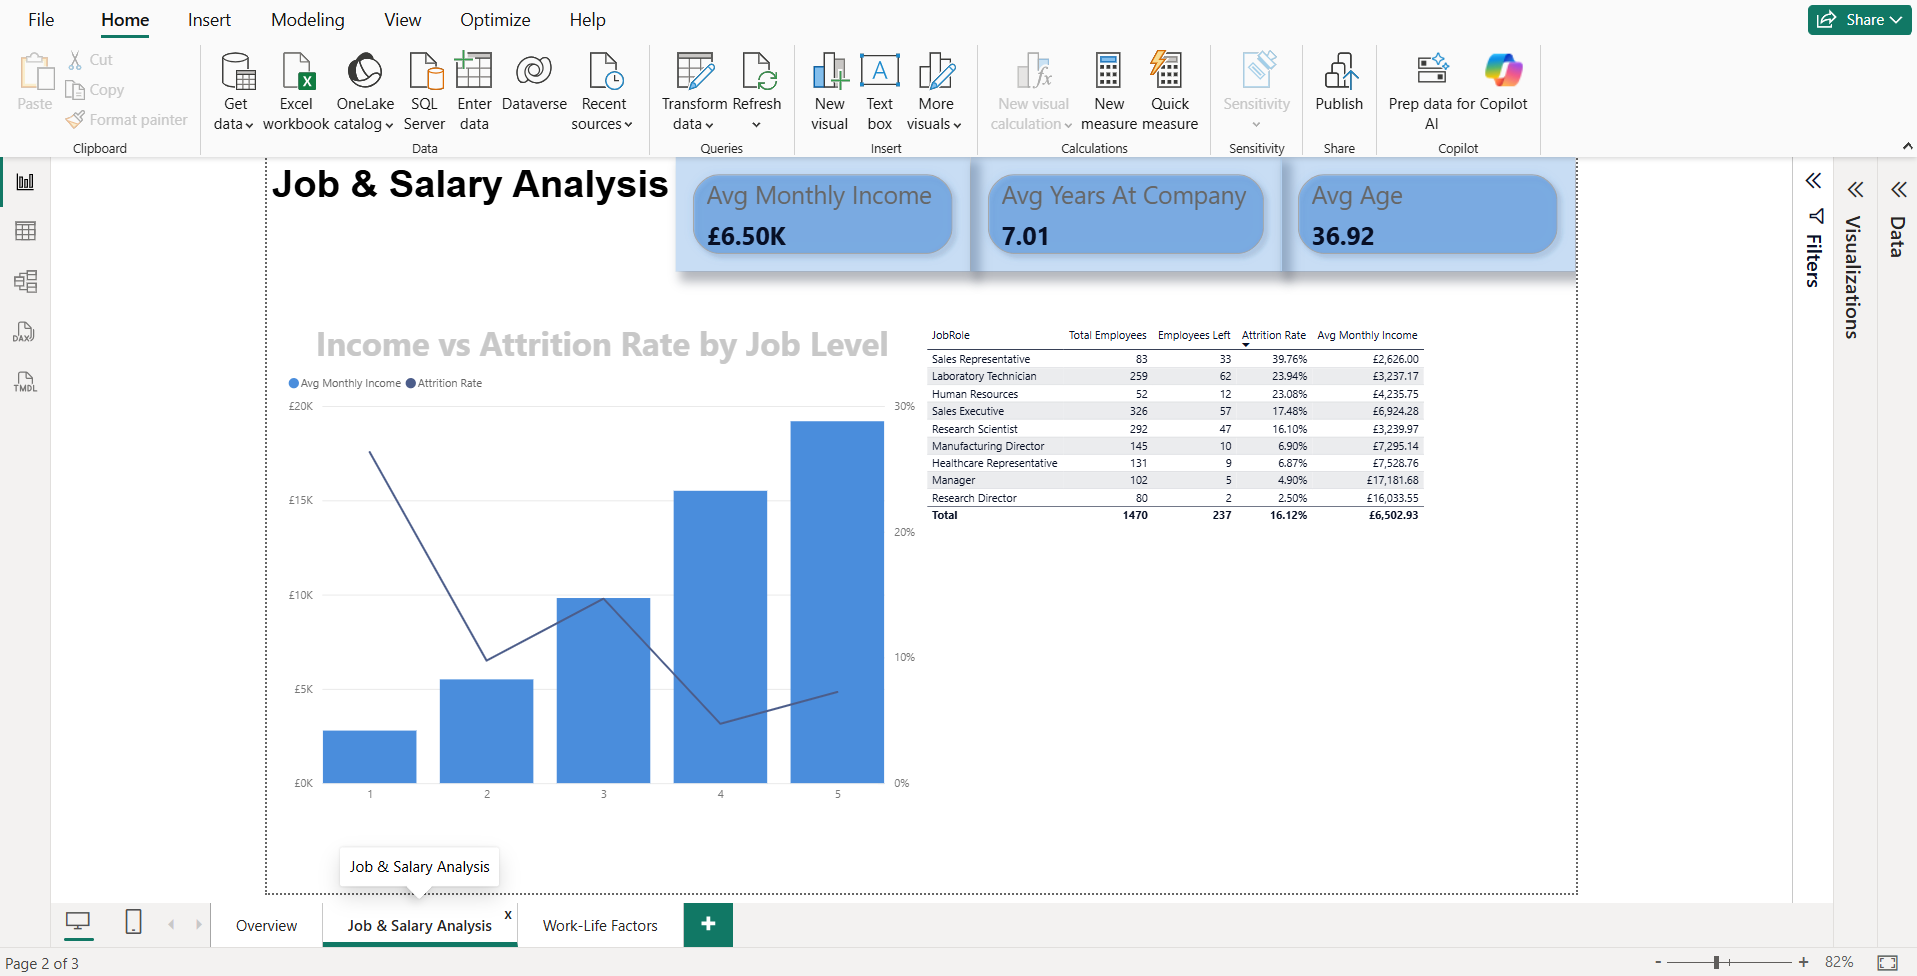

What the dashboard file says about the page in this screenshot:
{"tool":"powerbi","page":{"name":"Job & Salary Analysis","canvas":[1280,720],"ordinal":1},"visuals":[{"type":"cardVisual","fields":{"Data":["_Measures.Avg Monthly Income"]},"box":[400,0,288,112],"z":0},{"type":"cardVisual","fields":{"Data":["_Measures.Avg Years At Company"]},"box":[688,0,304,112],"z":1000},{"type":"cardVisual","fields":{"Data":["_Measures.Avg Age"]},"box":[992,0,288,112],"z":2000},{"type":"lineClusteredColumnComboChart","title":"Income vs Attrition Rate by Job Level","fields":{"Category":["employees.JobLevel"],"Y2":["_Measures.Attrition Rate"],"Y":["_Measures.Avg Monthly Income"]},"box":[16,160,624,480],"z":3000},{"type":"tableEx","fields":{"Values":["employees.JobRole","_Measures.Total Employees","_Measures.Employees Left","_Measures.Attrition Rate","_Measures.Avg Monthly Income"]},"box":[640,160,640,480],"z":4000},{"type":"textbox","box":[0,0,400,80],"z":5000}]}

Visuals, with their boxes on the page's 1280x720 design canvas (x1, y1, x2, y2). These are canvas units, not pixel positions in the 1917x976 screenshot, which may show the page scaled, cropped or inside an application window:
cardVisual - _Measures.Avg Monthly Income: bbox=(400, 0, 688, 112)
cardVisual - _Measures.Avg Years At Company: bbox=(688, 0, 992, 112)
cardVisual - _Measures.Avg Age: bbox=(992, 0, 1280, 112)
"Income vs Attrition Rate by Job Level" lineClusteredColumnComboChart: bbox=(16, 160, 640, 640)
tableEx - employees.JobRole x _Measures.Total Employees: bbox=(640, 160, 1280, 640)
textbox: bbox=(0, 0, 400, 80)
